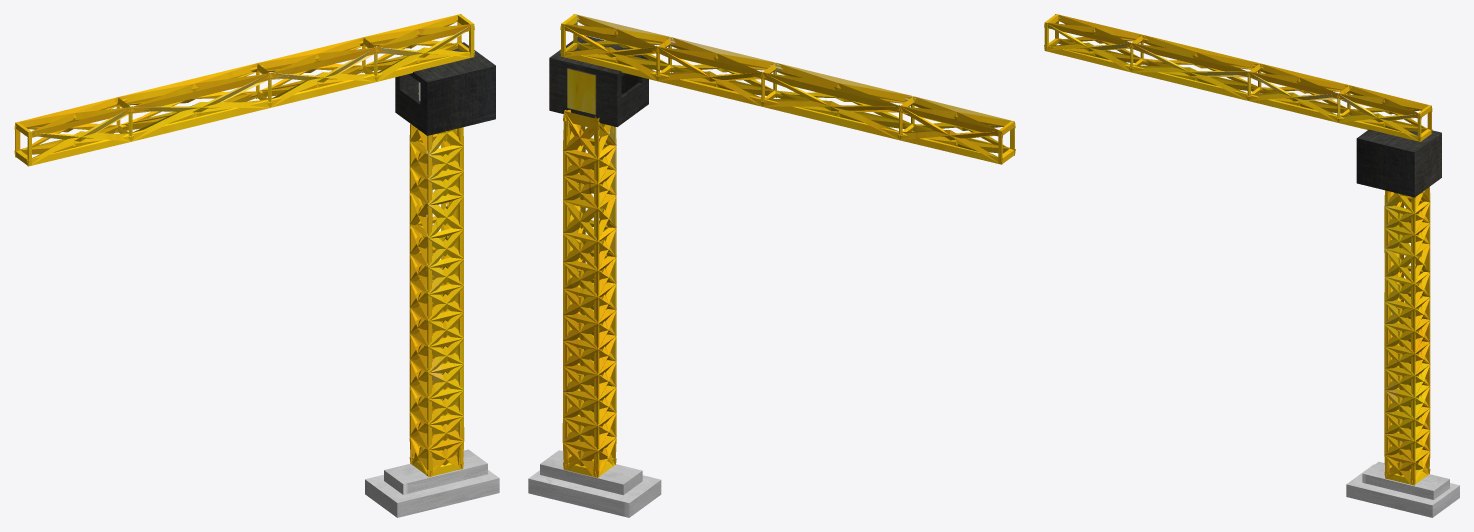
Rendered from construccion.obj.
3 renders of one model, left to right at view 1: azimuth 30°, elevation 25°; view 2: azimuth 150°, elevation 25°; view 3: azimuth 330°, elevation 25°, orthographic. The views are drawn at different scales.
Visible parts, largest first — view 1: Cubo.005; view 2: Cubo.005; view 3: Cubo.005.
Boxes of the visible parts, <box> form: Cubo.005: <box>14,14,499,517</box>; Cubo.005: <box>528,14,1015,517</box>; Cubo.005: <box>1044,14,1459,517</box>.
Bounding box in the file's own units: 31.38 × 30.33 × 4.81.
Materials: 1 (1 with a texture image).
